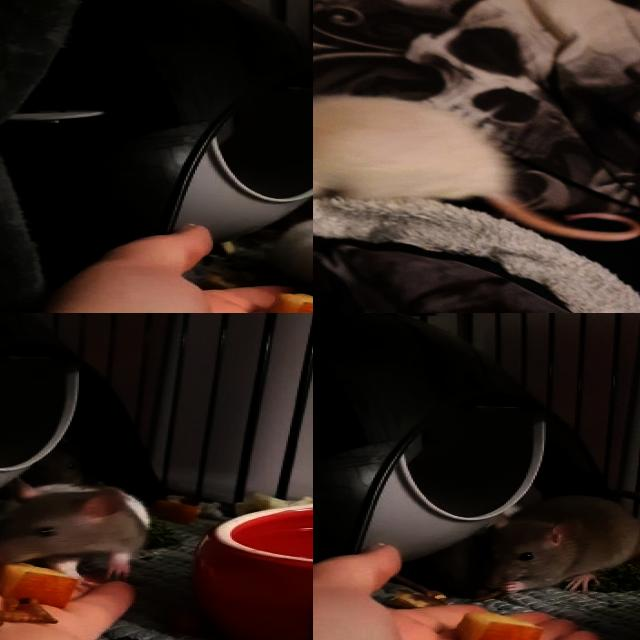rat: (313, 99, 518, 203), (469, 493, 640, 592), (0, 479, 149, 585), (253, 212, 313, 313)
